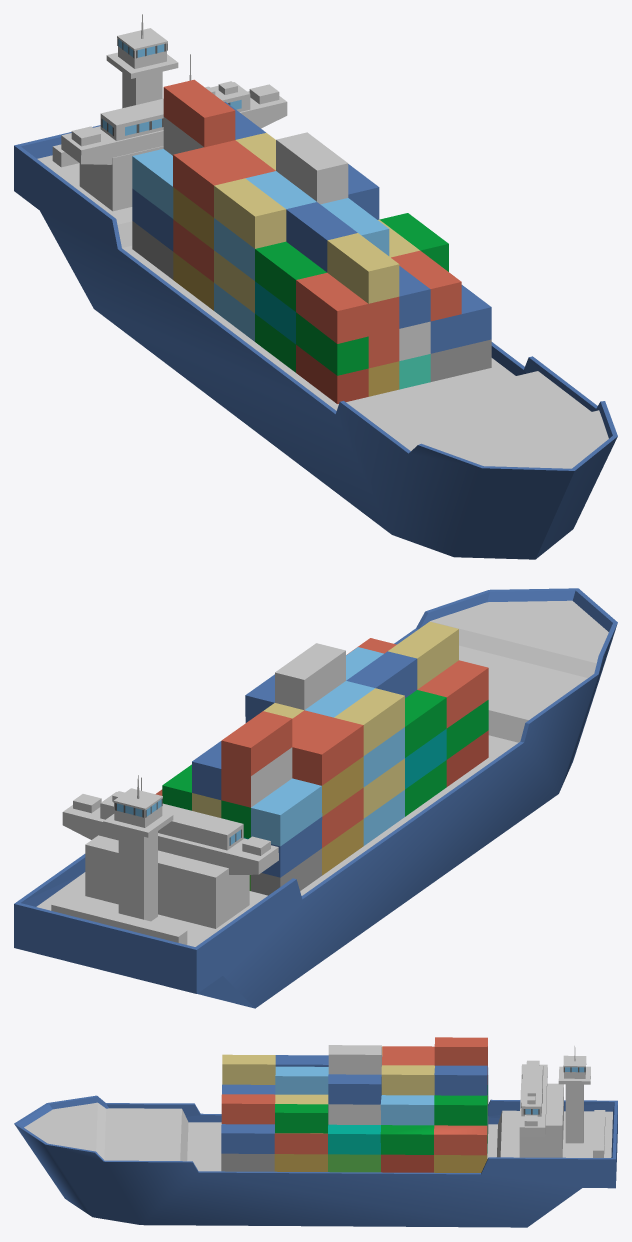
File: Cargo_Ship_2.fbx
The picture shows the model from 3 angles, top to bottom: view 1: azimuth 30°, elevation 25°; view 2: azimuth 150°, elevation 25°; view 3: azimuth 270°, elevation 25°; orthographic projection. The views are drawn at different scales.
Parts seen in each view (by area): view 1: Cargo_Ship_2; view 2: Cargo_Ship_2; view 3: Cargo_Ship_2.
Boxes of the visible parts, x1,y1,x2,y2 form: Cargo_Ship_2: (14, 14, 617, 559); Cargo_Ship_2: (14, 588, 617, 1008); Cargo_Ship_2: (14, 1037, 617, 1227).
Size of the model in its own units: 4.74 by 5.42 by 19.
